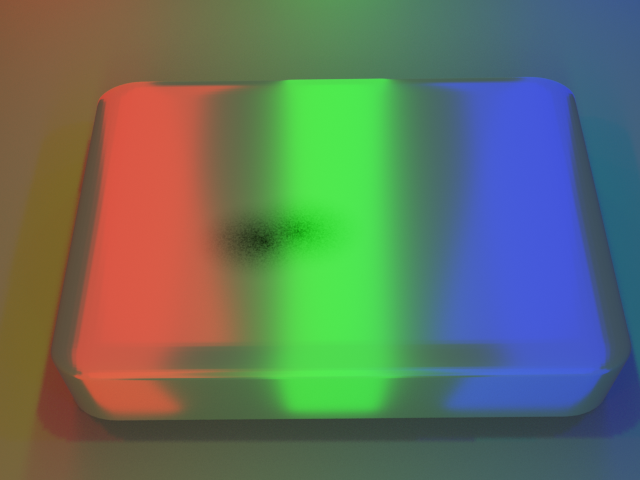stain: (160, 179, 373, 301)
